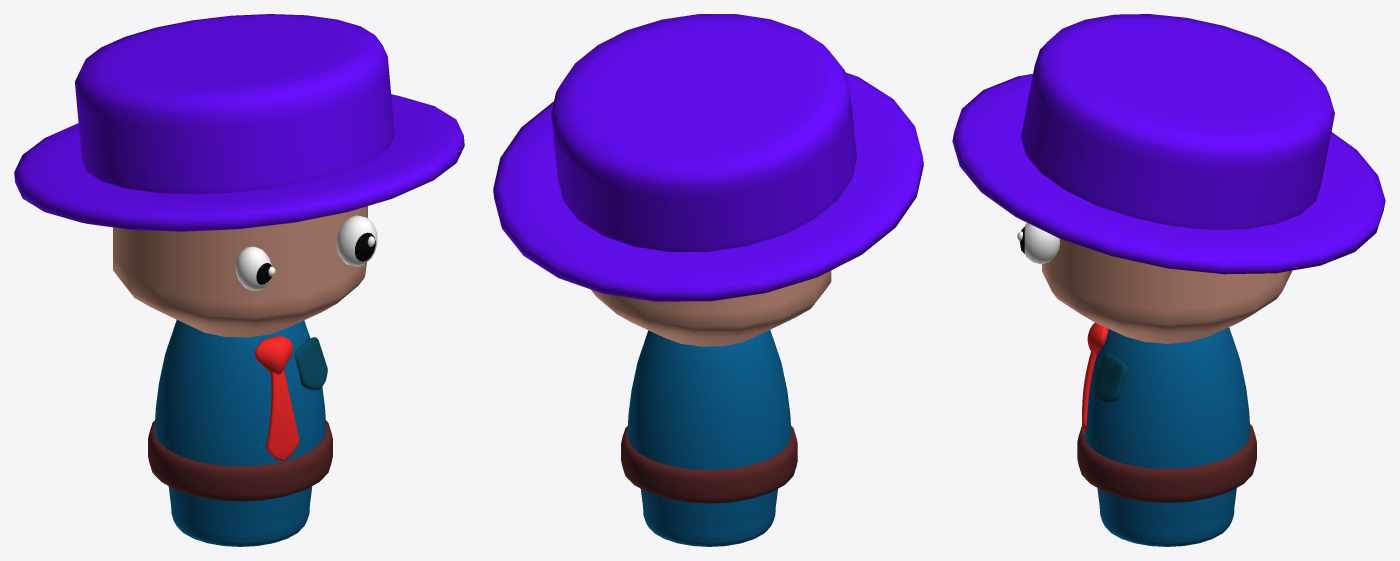
Rendered from Dad.FBX.
3 renders of one model, left to right at view 1: azimuth 30°, elevation 25°; view 2: azimuth 150°, elevation 25°; view 3: azimuth 270°, elevation 25°, orthographic. The views are drawn at different scales.
Parts seen in each view (by area): view 1: Cylinder016, Cylinder015, Cylinder014, Cylinder013, Tube002, Box047, Box048, Sphere045, Box046, Sphere048; view 2: Cylinder016, Cylinder015, Cylinder013, Tube002, Cylinder014; view 3: Cylinder016, Cylinder015, Cylinder013, Cylinder014, Tube002, Box048, Sphere045, Box047.
Boxes of the visible parts, x1,y1,x2,y2 form: Cylinder016: [75, 14, 394, 194]; Cylinder015: [14, 94, 464, 231]; Cylinder014: [113, 206, 367, 337]; Cylinder013: [155, 320, 325, 466]; Tube002: [148, 420, 332, 546]; Box047: [265, 369, 299, 461]; Box048: [294, 337, 327, 390]; Sphere045: [336, 215, 377, 266]; Box046: [255, 336, 292, 374]; Sphere048: [235, 246, 271, 290]; Cylinder016: [551, 14, 856, 251]; Cylinder015: [493, 72, 923, 301]; Cylinder013: [627, 330, 791, 470]; Tube002: [621, 426, 797, 546]; Cylinder014: [591, 270, 831, 346]; Cylinder016: [1020, 14, 1334, 229]; Cylinder015: [952, 74, 1385, 274]; Cylinder013: [1084, 327, 1250, 468]; Cylinder014: [1042, 239, 1292, 343]; Tube002: [1077, 424, 1256, 546]; Box048: [1094, 352, 1127, 403]; Sphere045: [1024, 222, 1059, 264]; Box047: [1082, 351, 1096, 433].
Bounding box in the file's own units: 0.9539 × 1.12 × 0.9435.
